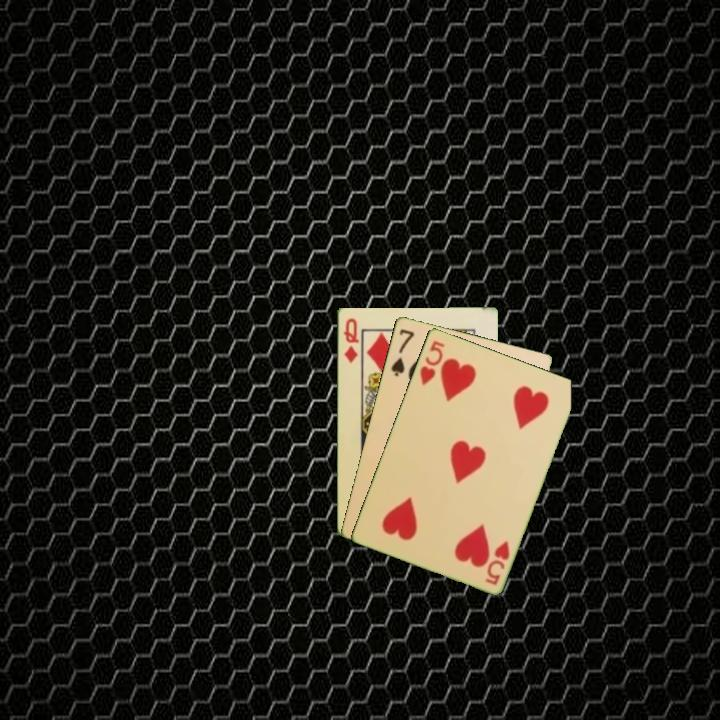5h: (416, 337, 447, 388), (482, 537, 512, 588)
7s: (387, 325, 417, 379)
Qd: (340, 314, 361, 366)
